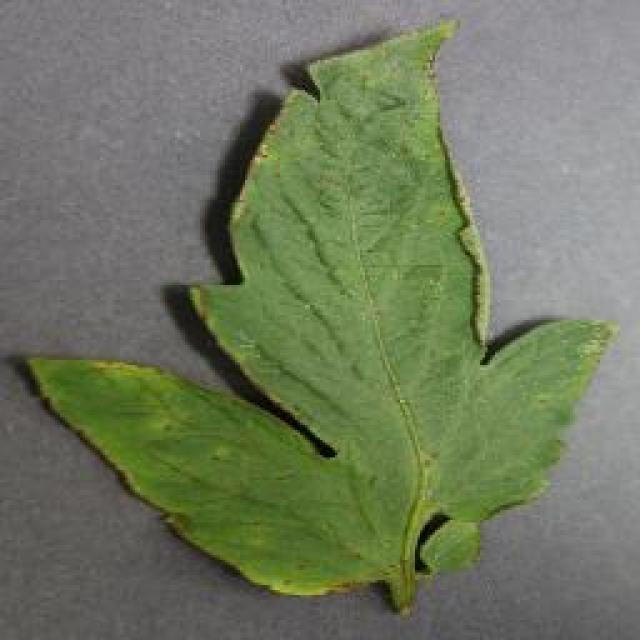Tom_Bacterial_spot: (247, 22, 465, 244)
